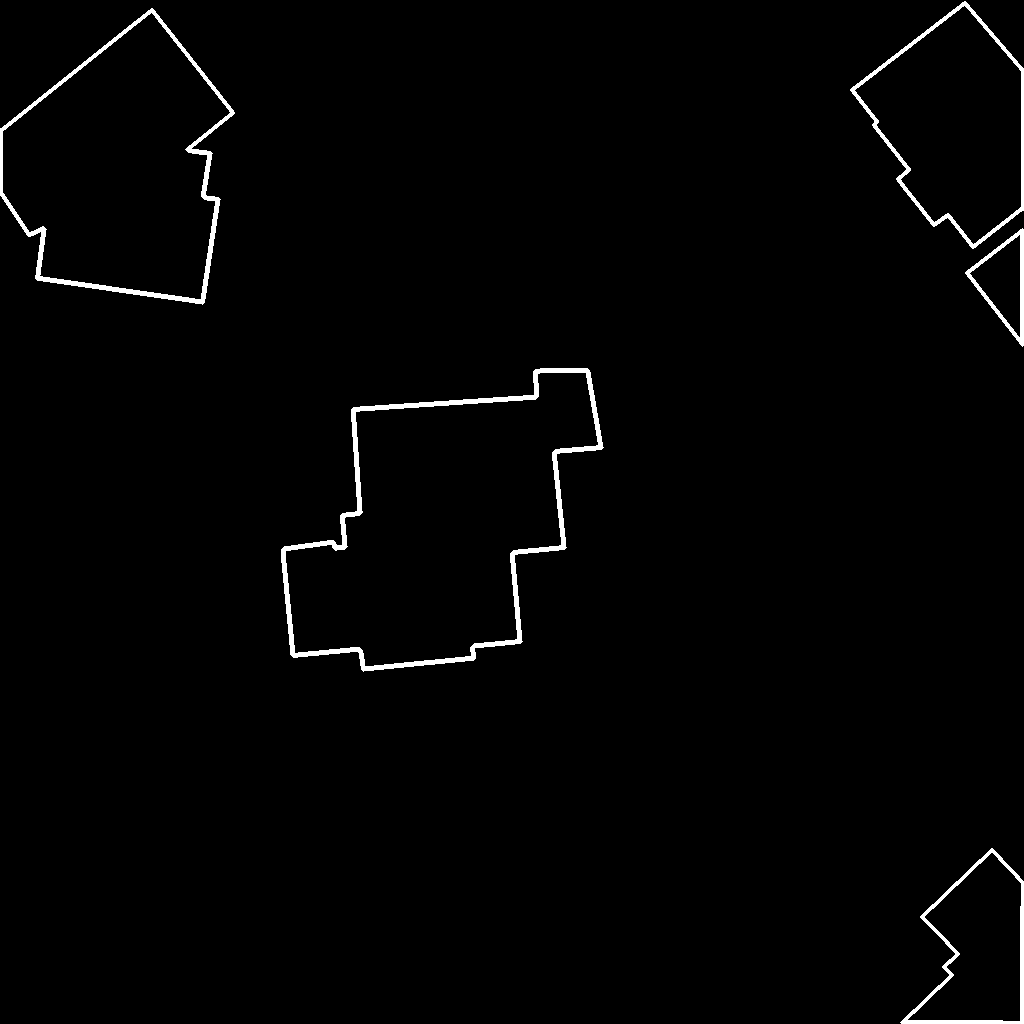building: (283, 370, 602, 670), (0, 10, 234, 303), (852, 3, 1024, 346), (902, 850, 1024, 1024)
